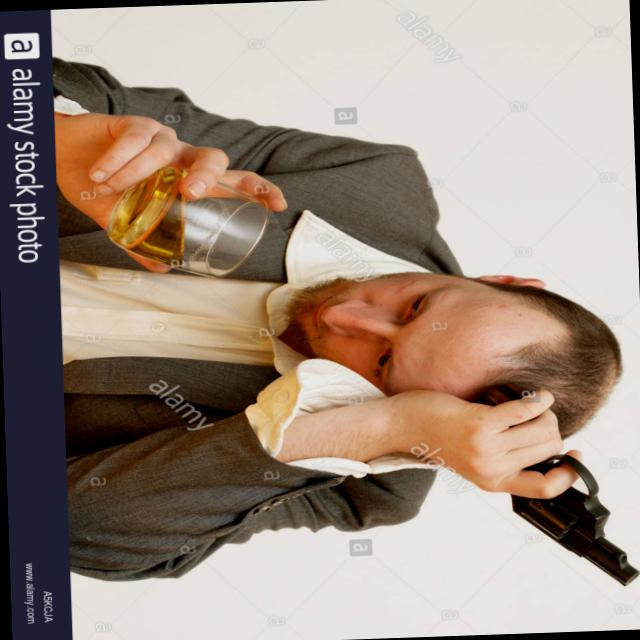handgun: (456, 371, 639, 592)
